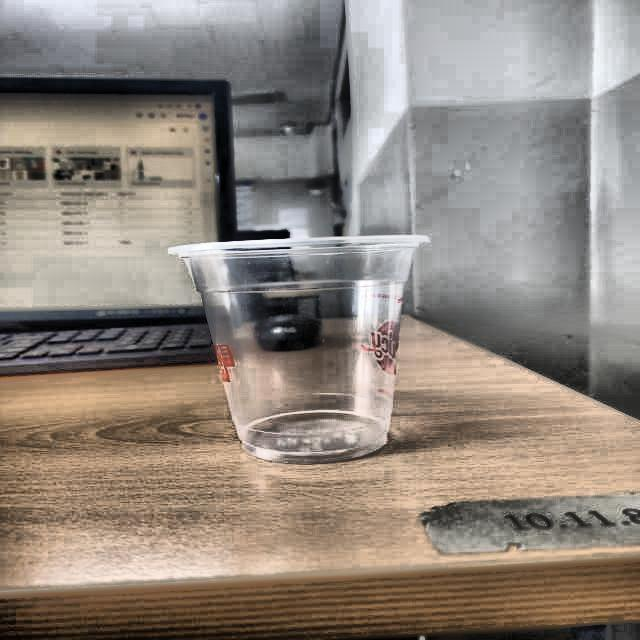plastic cup: (166, 234, 433, 464)
